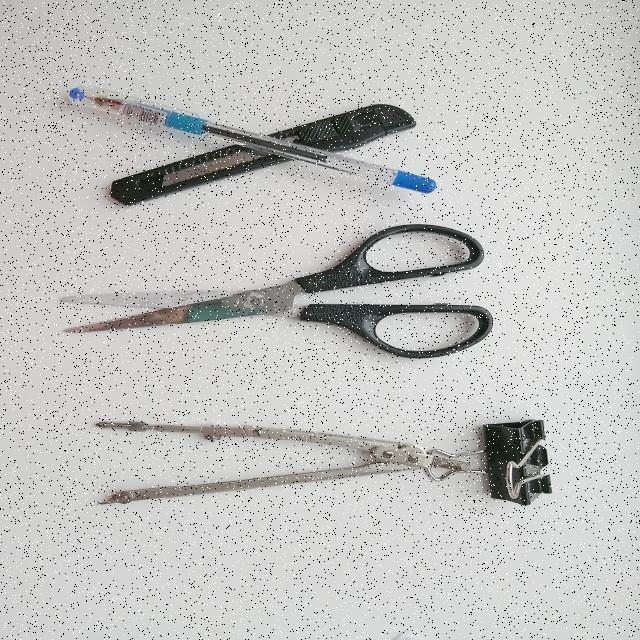scissors: (51, 215, 496, 367)
